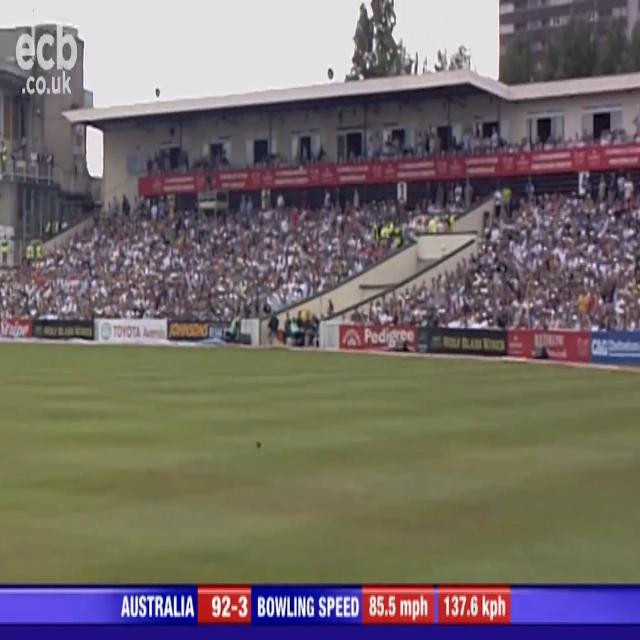ball: (254, 437, 264, 453)
